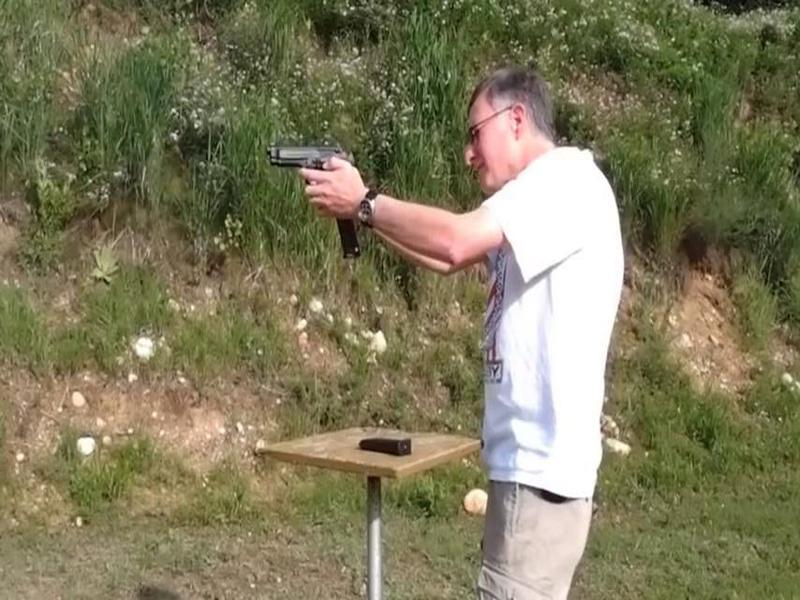Pistola: (252, 130, 374, 217)
